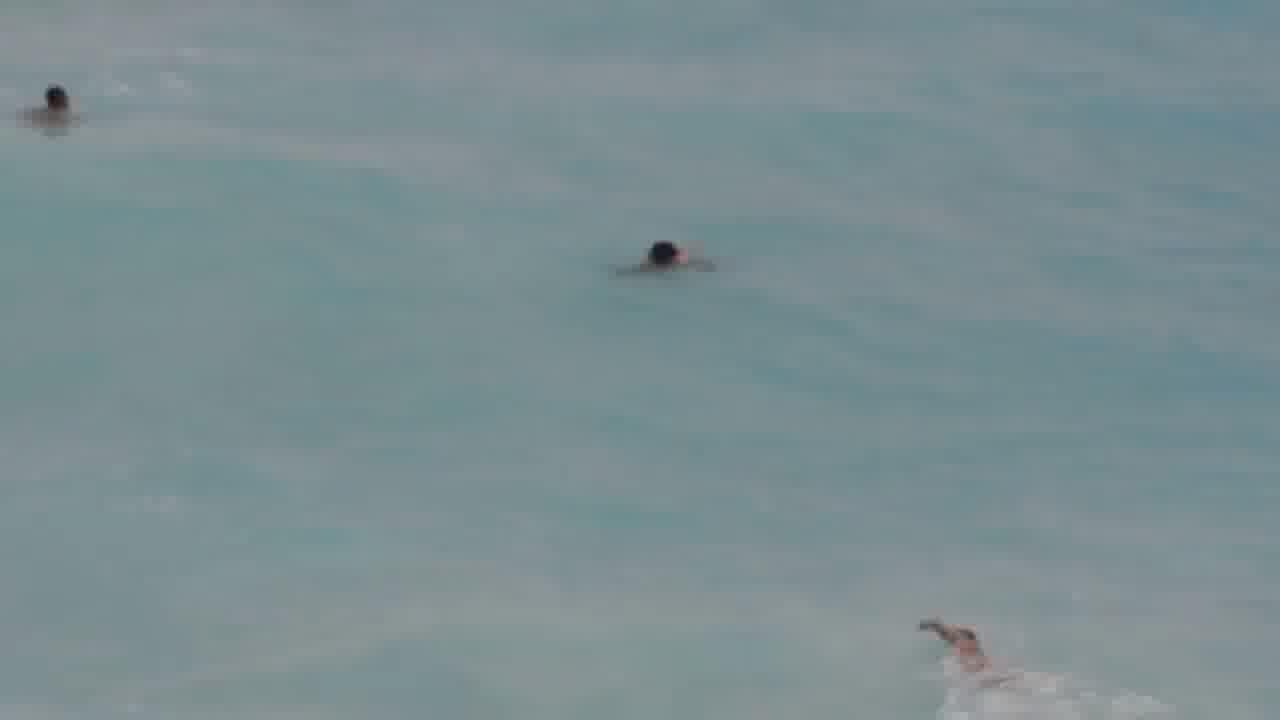swimmer: (935, 611, 1008, 674), (640, 222, 704, 290), (32, 78, 87, 141)
